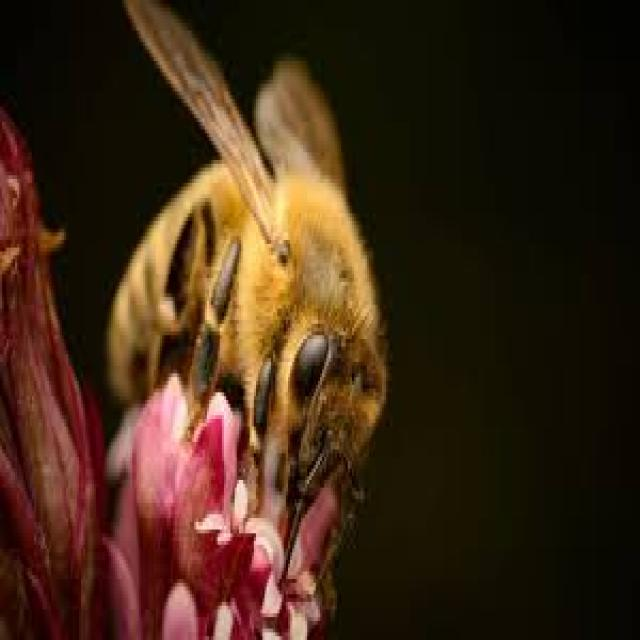Bees: (107, 0, 390, 616)
